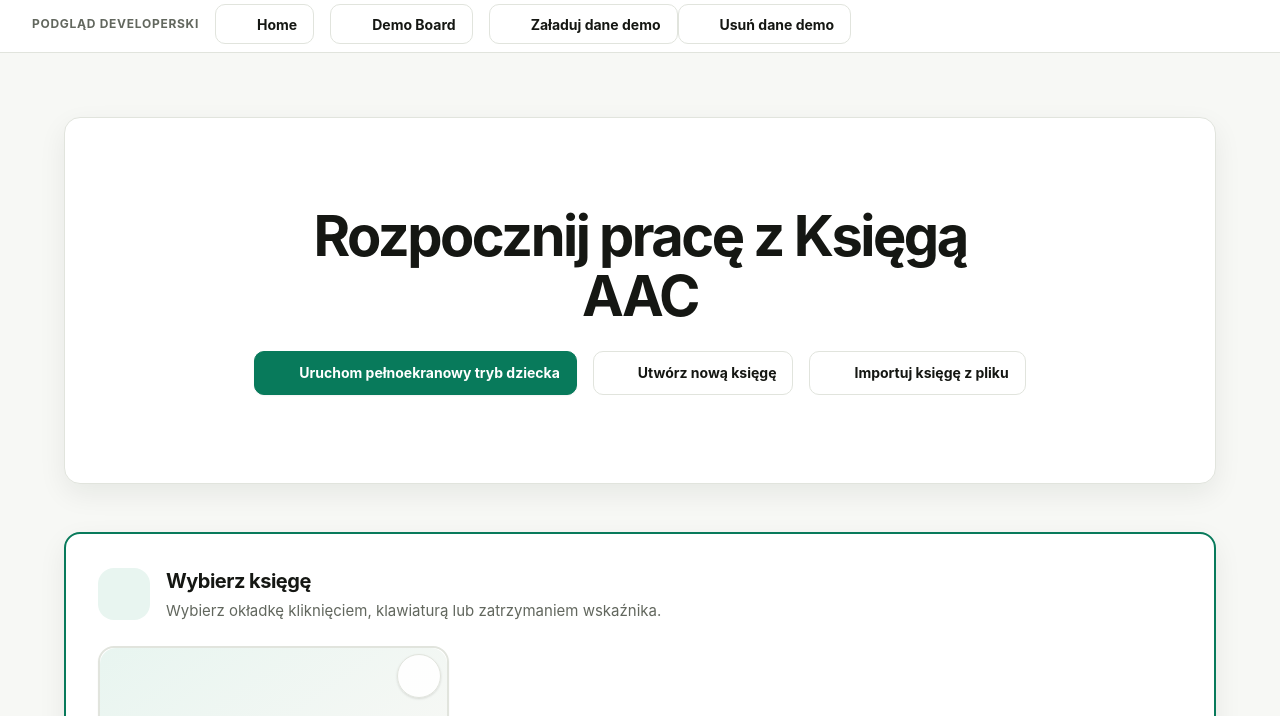
Test: App › keeps the add Board action and opens existing Boards in use mode
Click the button named "Więcej opcji księgi Księga ABC" at (419, 676), box x1=397 y1=654 x2=441 y2=698
(page scrolled)
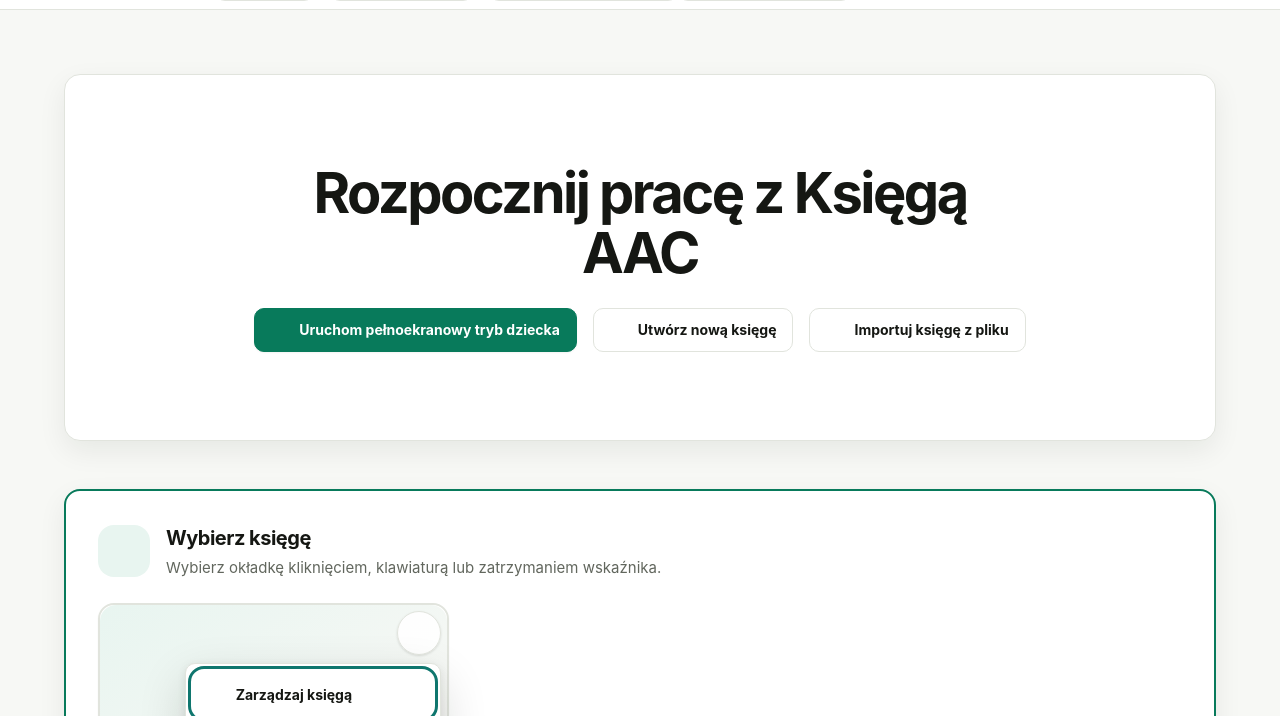
Click the menu item named "Zarządzaj księgą Księga ABC" at (313, 694), box x1=194 y1=672 x2=432 y2=715
(page scrolled)
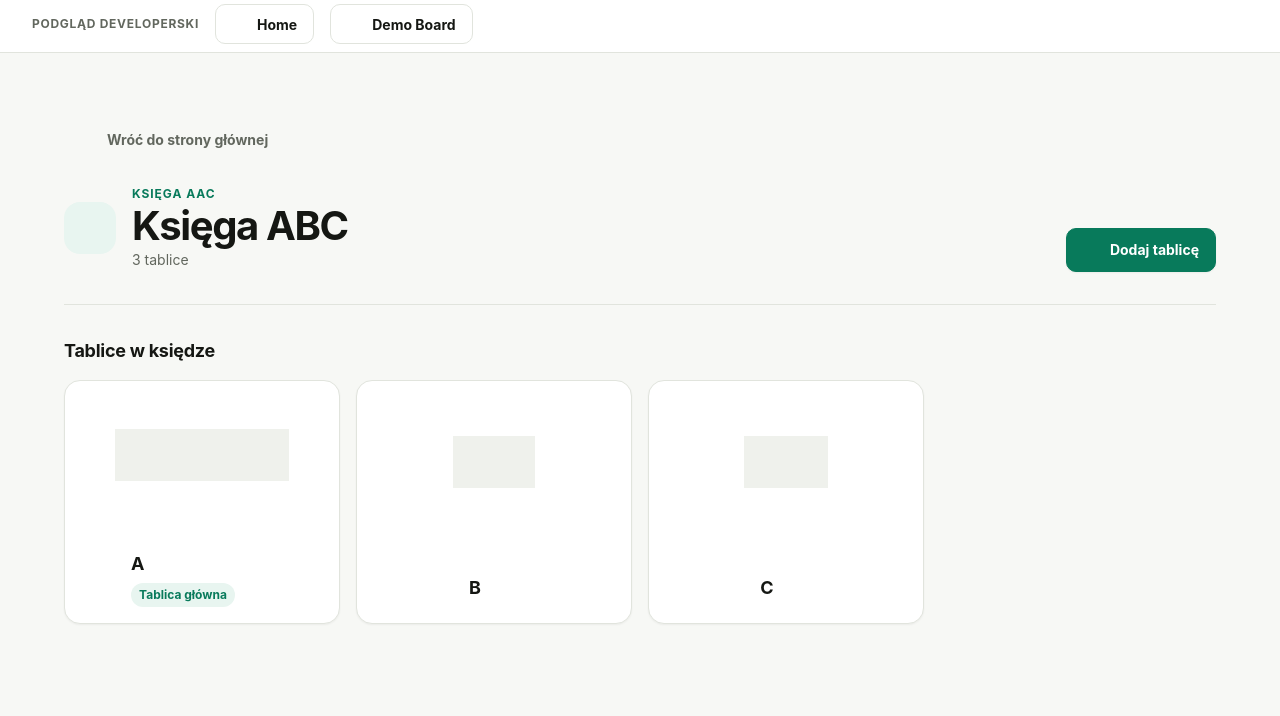
expect the button with aria-label "+ Dodaj tablicę" is shown: met
Click the button with aria-label "+ Dodaj tablicę" at (1141, 250), box x1=1066 y1=228 x2=1216 y2=272
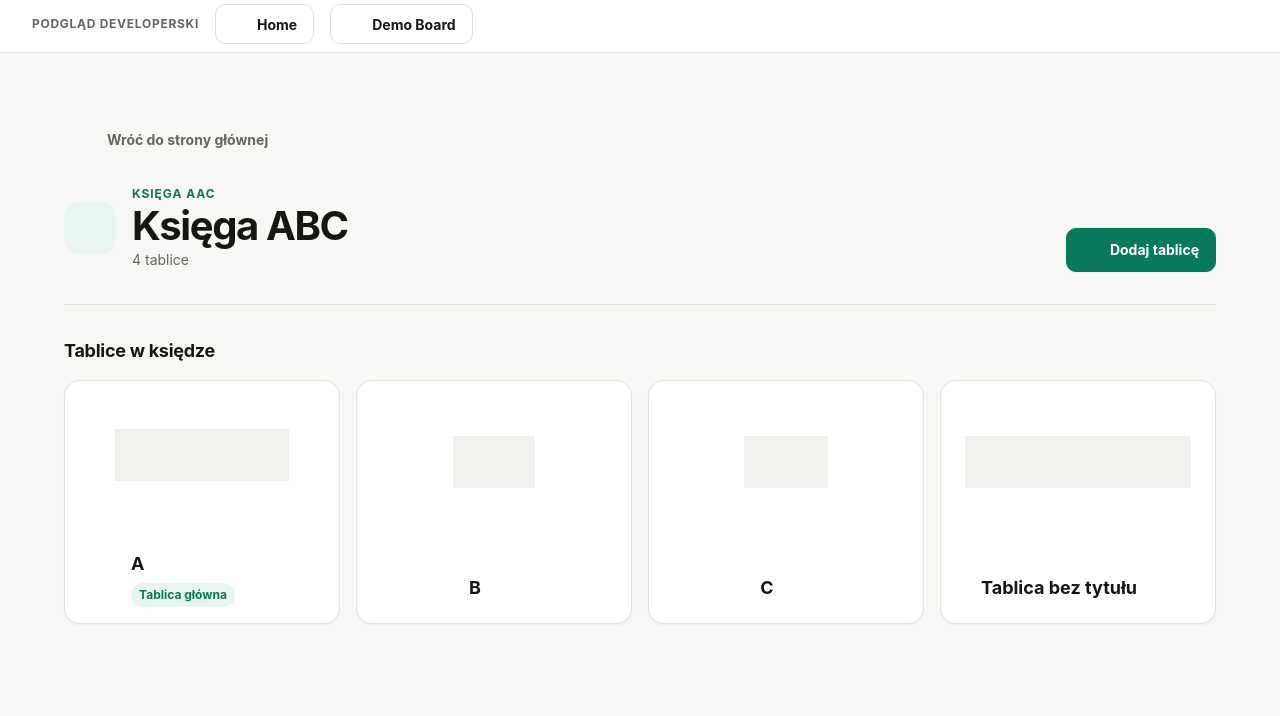
expect the button with aria-label "+ Dodaj tablicę" is shown: met, box x1=1066 y1=228 x2=1216 y2=272
Click the button with aria-label "Wybierz tablicę A" at (202, 455), box x1=64 y1=380 x2=340 y2=624
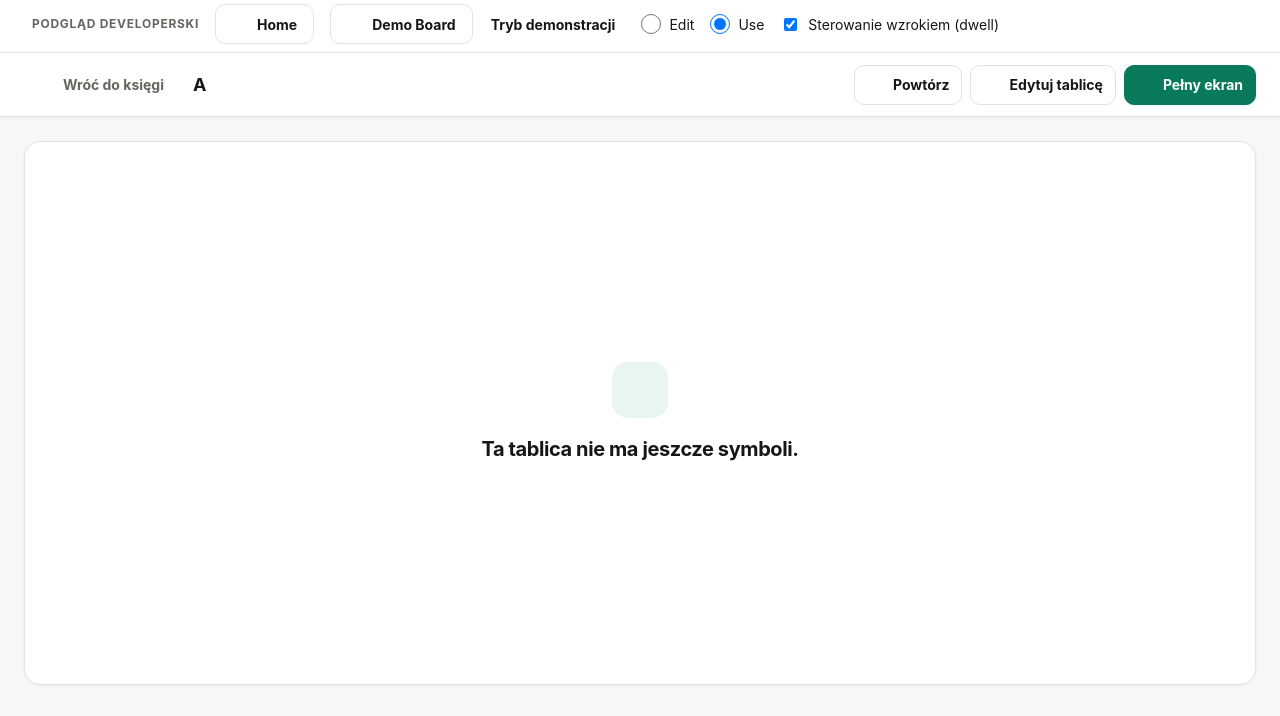
expect the heading "A" is shown: met, box x1=193 y1=74 x2=206 y2=95
expect the field labelled "Nazwa tablicy" is not shown: met
Click the button "Edytuj tablicę" at (1043, 84), box x1=970 y1=64 x2=1116 y2=104
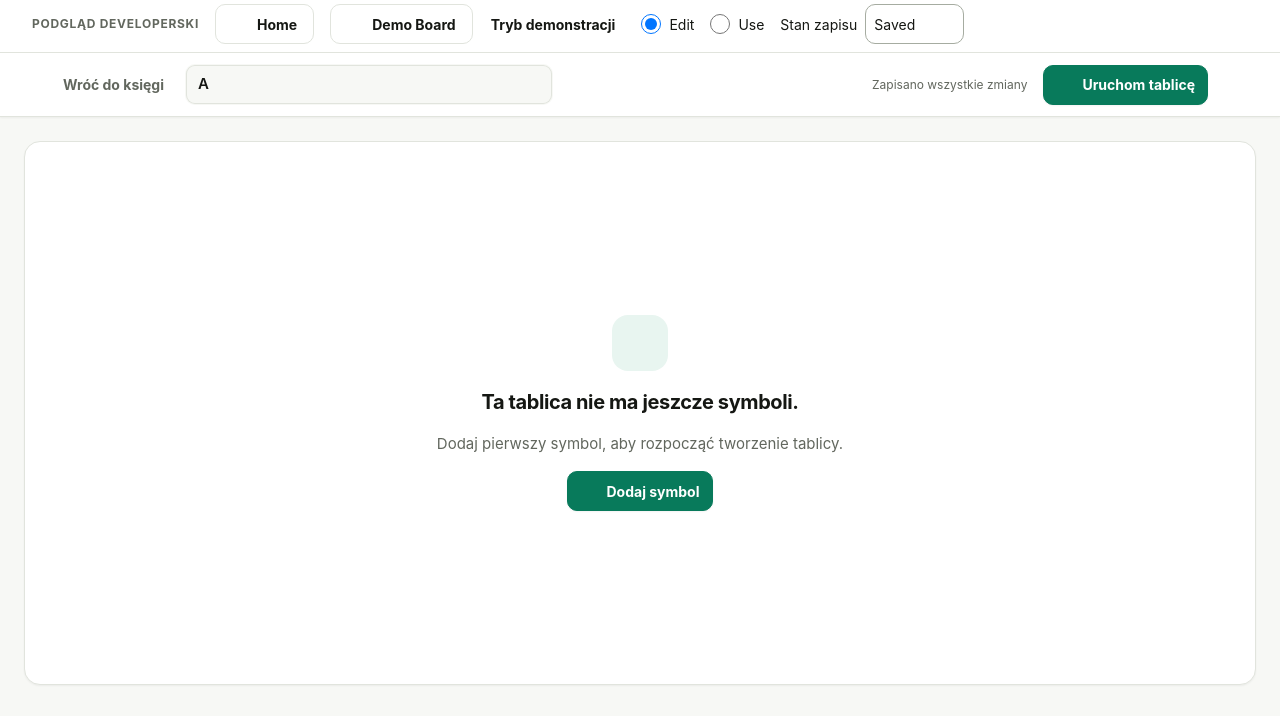
expect the field named "Nazwa tablicy" holds "A": met, box x1=185 y1=64 x2=553 y2=105
